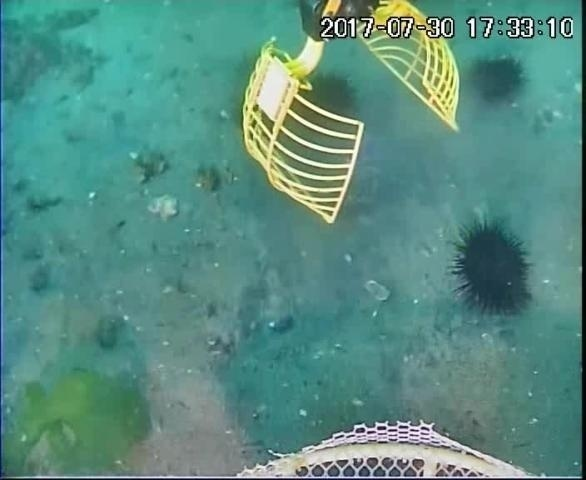echinus: (447, 214, 537, 318), (291, 69, 366, 139), (471, 53, 529, 106)
